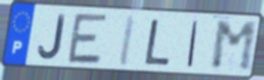E: (66, 11, 110, 66)
I: (116, 14, 138, 68), (185, 19, 200, 69)
J: (37, 13, 67, 62)
L: (143, 18, 173, 67)
M: (210, 20, 258, 73)
